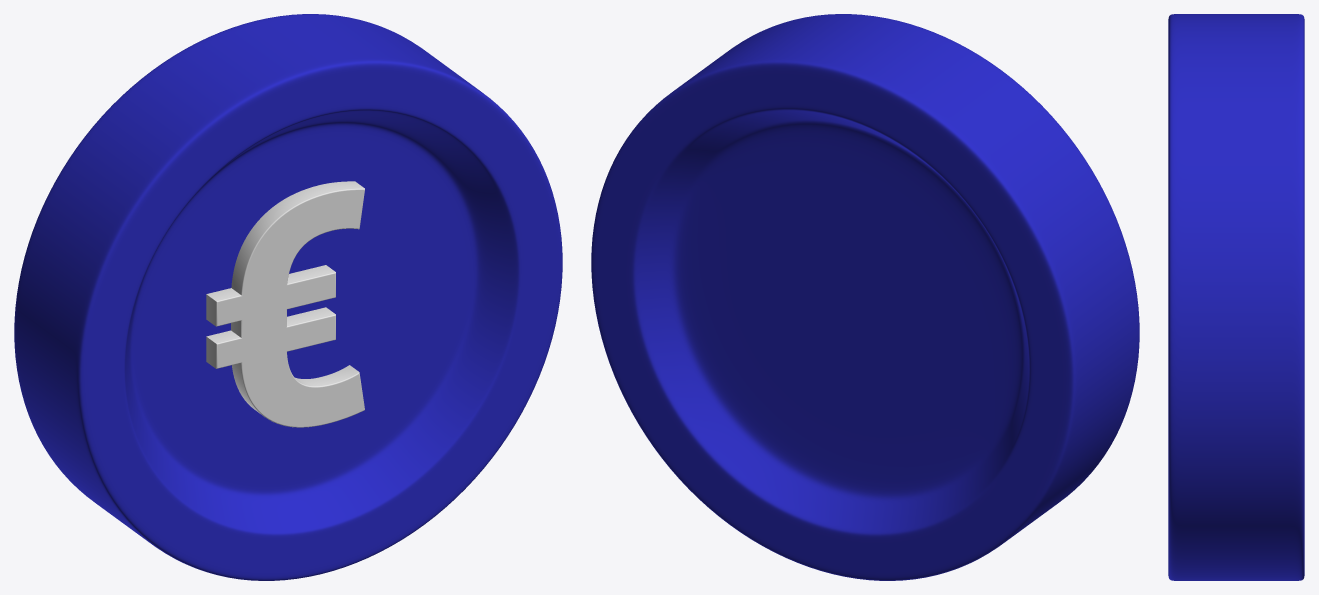
Rendered from euro.fbx.
3 views of the same model, side by side, from view 1: azimuth 30°, elevation 25°; view 2: azimuth 150°, elevation 25°; view 3: azimuth 270°, elevation 25° (orthographic).
Visible parts, largest first — view 1: Euro; view 2: Euro; view 3: Euro.
Part boxes in pixels (<box>): Euro: <box>14,14,562,580</box>; Euro: <box>591,14,1139,580</box>; Euro: <box>1168,14,1304,580</box>.
Bounding box in the file's own units: 186 × 186 × 44.8.
